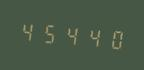five: (39, 17, 59, 48)
four: (18, 15, 38, 47), (81, 20, 101, 52), (60, 19, 80, 50)
zero: (102, 22, 122, 54)
